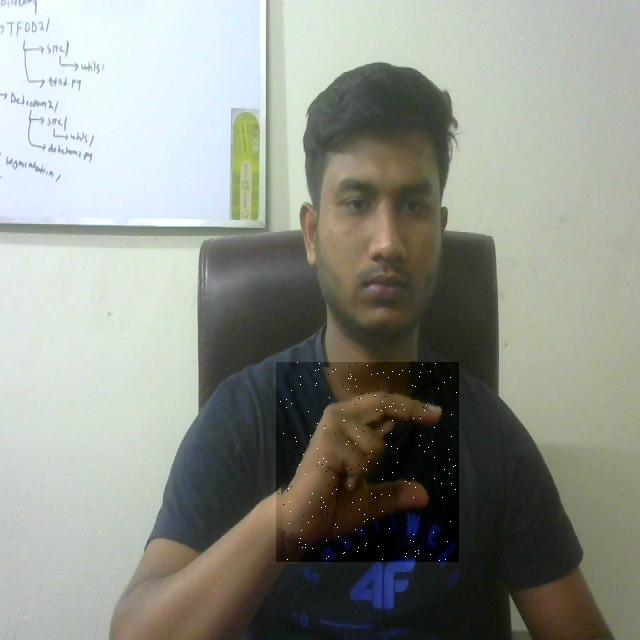No: (276, 362, 459, 562)
